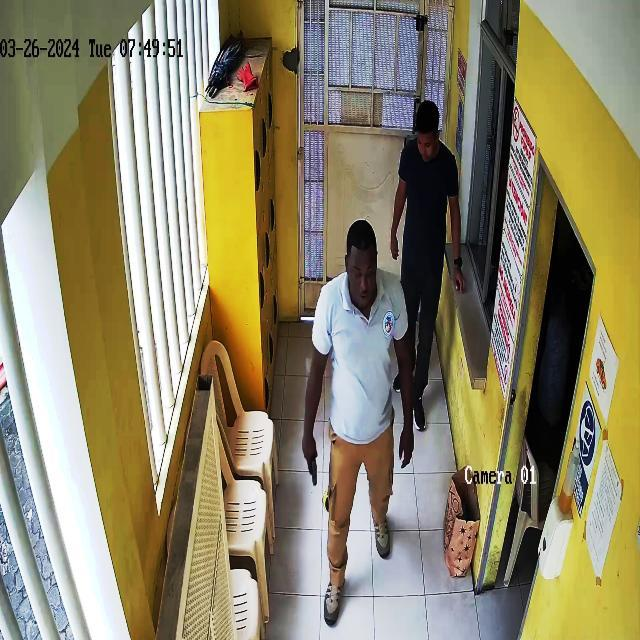Gun: (299, 430, 333, 493)
